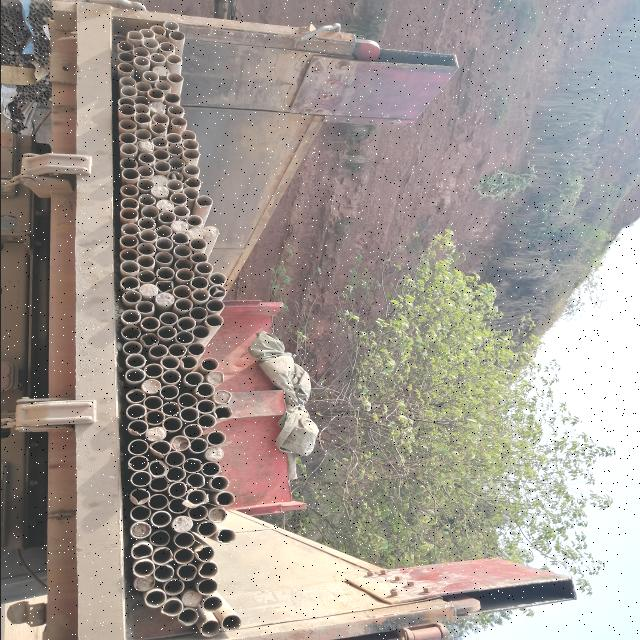pipe: (142, 588, 166, 608), (175, 608, 198, 628), (160, 598, 182, 618), (162, 578, 184, 596), (192, 545, 214, 563), (132, 560, 154, 578), (195, 579, 218, 596), (181, 591, 202, 609), (147, 460, 168, 478), (175, 564, 197, 581), (129, 471, 151, 488), (221, 614, 241, 632), (200, 620, 220, 638), (202, 596, 222, 614), (196, 562, 216, 580), (216, 528, 236, 546), (152, 547, 172, 565), (172, 548, 193, 565), (186, 505, 208, 521), (170, 516, 192, 532), (149, 512, 171, 528), (128, 506, 150, 522), (129, 522, 151, 538), (130, 543, 152, 559), (128, 488, 150, 504), (126, 456, 148, 472), (127, 440, 149, 456), (148, 440, 170, 456), (168, 436, 190, 452), (133, 576, 154, 592), (148, 494, 169, 510), (127, 420, 148, 436), (125, 404, 146, 420), (144, 427, 166, 442), (124, 388, 146, 403), (124, 353, 146, 368), (206, 507, 226, 523), (214, 491, 234, 507), (174, 532, 194, 548), (150, 532, 170, 548), (167, 498, 187, 514), (186, 489, 206, 505), (164, 451, 184, 467), (148, 476, 168, 492), (160, 355, 180, 371), (176, 393, 197, 408), (195, 399, 216, 414), (143, 410, 165, 424), (154, 565, 172, 582), (197, 522, 216, 538), (204, 446, 223, 462), (155, 292, 174, 308), (208, 476, 228, 491), (200, 462, 220, 477), (188, 438, 208, 453), (178, 407, 198, 422), (194, 383, 214, 398), (143, 363, 163, 378), (205, 431, 226, 445), (160, 402, 181, 416), (124, 369, 145, 383), (168, 482, 186, 498), (162, 417, 181, 432), (140, 332, 159, 347), (176, 316, 195, 331), (182, 458, 202, 472), (166, 468, 186, 482), (212, 406, 232, 420), (182, 425, 202, 439), (212, 390, 232, 404), (140, 380, 160, 394), (142, 396, 162, 410), (122, 341, 142, 355), (139, 317, 159, 331), (120, 326, 140, 340), (120, 310, 140, 324), (120, 276, 140, 290), (154, 266, 174, 280), (119, 260, 139, 274), (118, 248, 138, 262), (186, 473, 204, 488), (197, 414, 216, 428), (161, 370, 180, 384), (157, 326, 176, 340), (159, 312, 178, 326), (138, 284, 157, 298), (136, 270, 156, 283), (136, 243, 156, 256), (120, 223, 140, 236), (168, 343, 185, 358), (206, 371, 224, 385), (200, 358, 218, 372), (136, 300, 154, 314), (208, 272, 226, 286), (175, 298, 193, 312), (172, 285, 190, 299), (122, 290, 140, 304), (175, 268, 193, 282), (136, 254, 154, 268), (140, 229, 158, 243), (167, 156, 185, 170), (178, 356, 198, 368), (148, 345, 168, 357), (187, 342, 204, 356), (176, 330, 193, 344), (191, 289, 209, 302), (154, 225, 172, 238), (171, 232, 189, 245), (137, 217, 155, 230), (155, 199, 173, 212), (138, 193, 156, 206), (120, 184, 138, 197), (136, 165, 154, 178), (119, 235, 138, 247), (208, 285, 225, 298), (195, 195, 212, 208), (169, 192, 186, 205), (184, 372, 202, 384), (160, 386, 178, 398), (192, 326, 210, 338), (189, 308, 207, 320), (206, 300, 224, 312), (154, 280, 172, 292), (174, 258, 192, 270), (188, 238, 206, 250), (173, 245, 191, 257), (154, 252, 172, 264), (170, 220, 188, 232), (157, 211, 175, 223), (172, 205, 190, 217), (140, 206, 158, 218), (120, 208, 138, 220), (120, 198, 138, 210), (136, 178, 154, 190), (150, 185, 168, 197), (165, 180, 183, 192), (121, 168, 139, 180), (151, 149, 169, 161), (137, 152, 155, 164), (134, 140, 152, 152), (119, 144, 137, 156), (118, 132, 136, 144), (132, 113, 150, 125), (150, 136, 168, 148), (118, 104, 136, 116), (119, 85, 137, 97), (116, 62, 134, 74), (118, 158, 137, 169), (151, 174, 167, 187), (206, 314, 223, 326), (195, 262, 212, 274), (184, 176, 201, 188), (153, 160, 170, 172), (166, 72, 183, 84), (166, 144, 183, 156), (133, 128, 150, 140), (148, 53, 165, 65), (190, 252, 208, 263), (185, 229, 203, 240), (118, 119, 136, 130), (134, 81, 152, 92), (131, 47, 149, 58), (116, 52, 134, 63), (191, 276, 207, 288), (202, 226, 218, 238), (156, 238, 172, 250), (182, 188, 198, 200), (183, 164, 199, 176), (150, 123, 166, 135), (147, 88, 163, 100), (166, 54, 182, 66), (127, 30, 143, 42), (163, 93, 180, 104), (141, 39, 158, 50), (182, 149, 200, 159), (166, 105, 184, 115), (151, 66, 169, 76), (116, 42, 134, 52), (154, 80, 170, 91), (148, 101, 164, 112), (152, 113, 168, 124), (133, 104, 149, 115), (158, 42, 174, 53), (138, 29, 154, 40), (118, 77, 135, 87), (186, 216, 202, 226), (166, 172, 182, 182), (182, 140, 198, 150), (180, 130, 196, 140), (170, 117, 186, 127), (166, 134, 182, 144), (118, 98, 134, 108), (133, 96, 149, 106), (142, 71, 158, 81), (168, 31, 184, 41), (162, 22, 178, 32), (150, 26, 166, 36), (133, 56, 149, 66), (153, 36, 170, 44)
